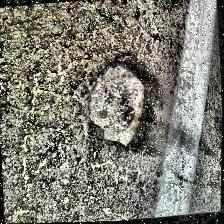pothole: (83, 50, 163, 154)
